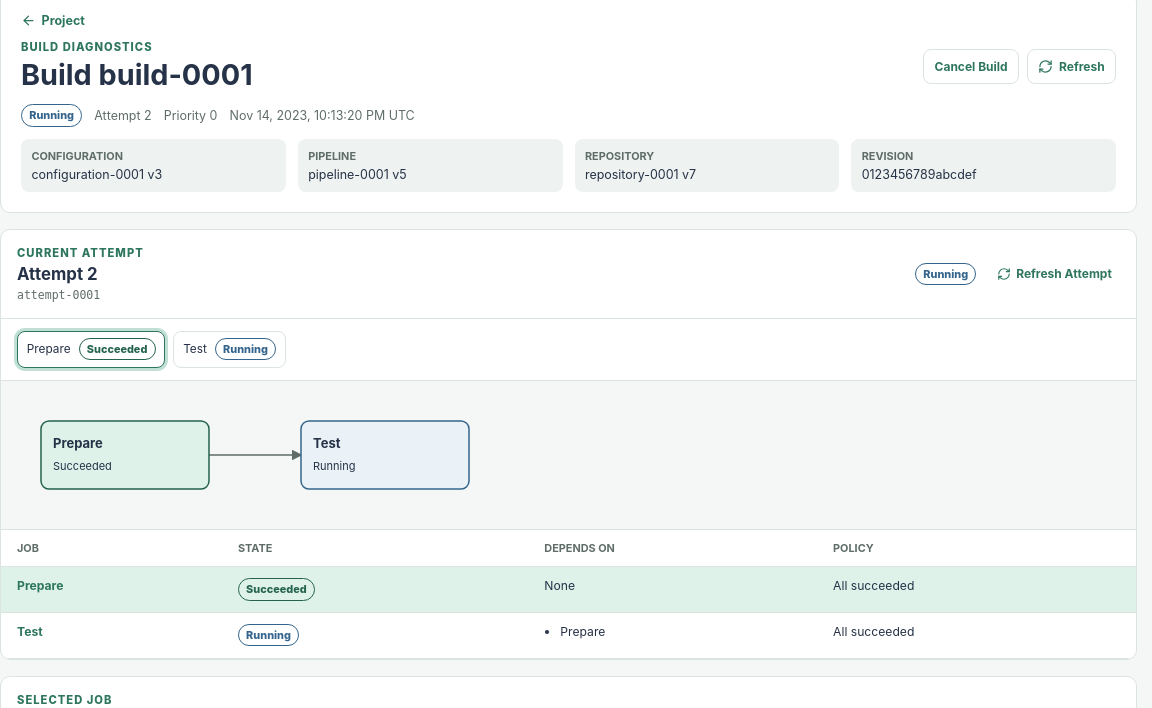
Build diagnostics › selects a Job from the compact selector or table without changing relationships
Step 1. Click the button with aria-label "Select Test, Running" → (230, 349), box [173,330,286,368]
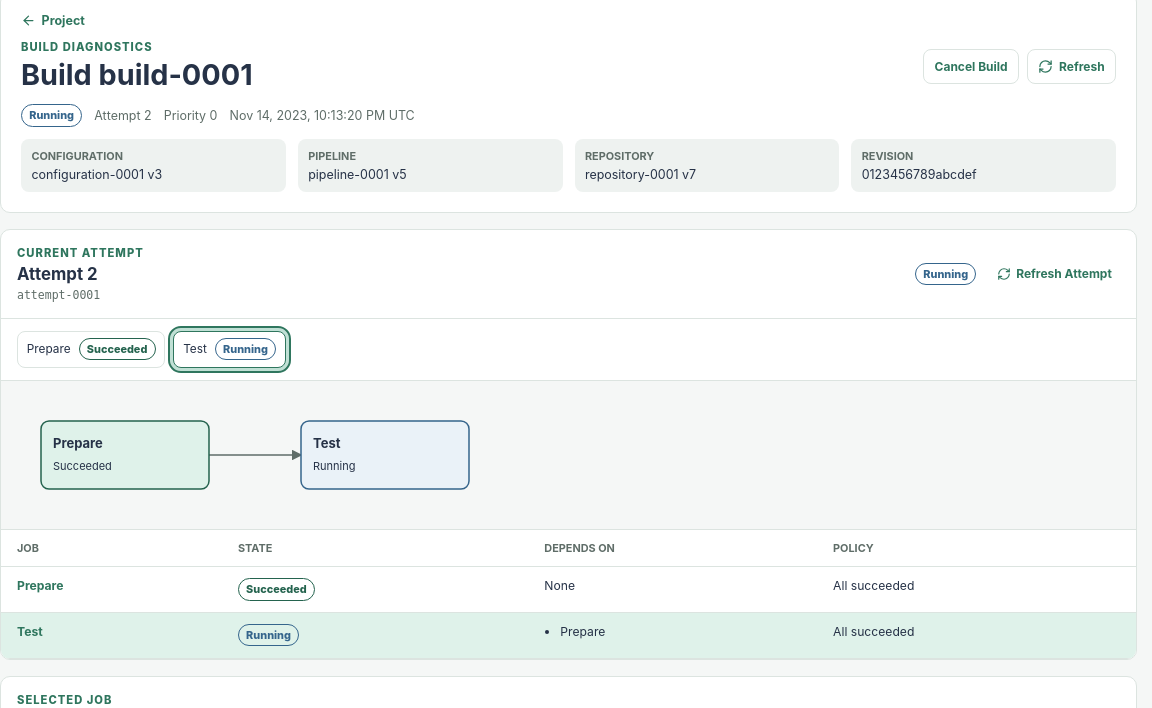
Step 2. Click the button with aria-label "Select Prepare" → (40, 586), box [17,578,64,593]
(page scrolled)
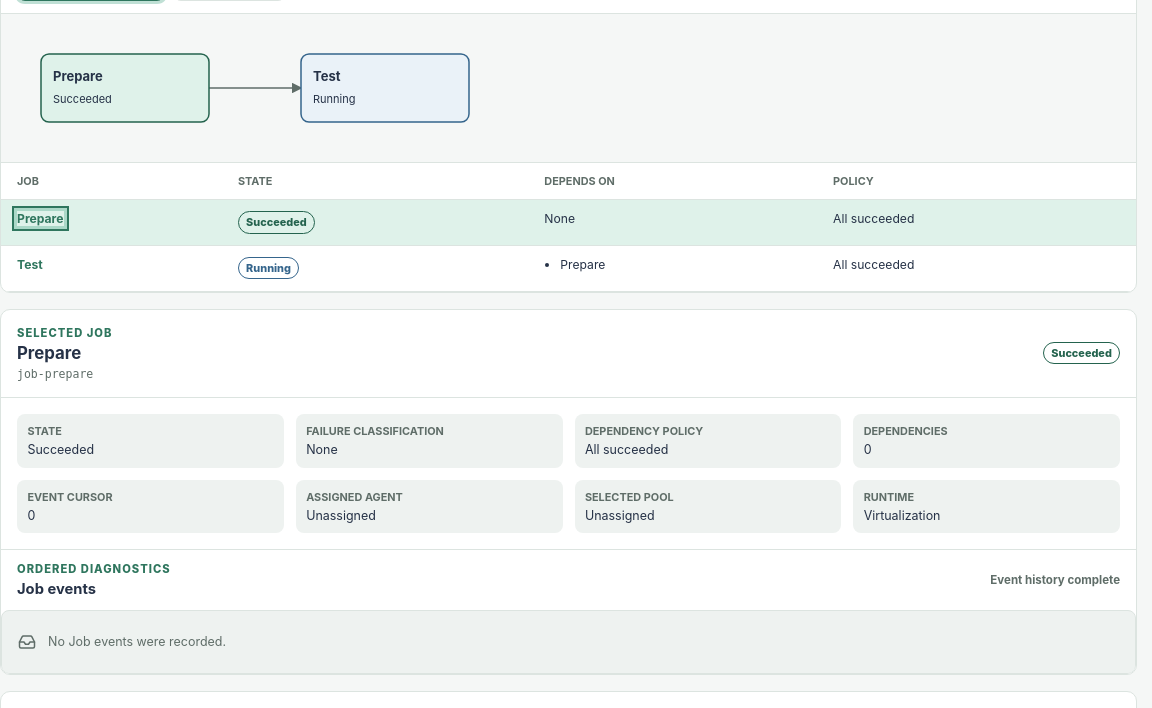
Expected: the heading "Prepare" is shown, [17,343,81,363]
